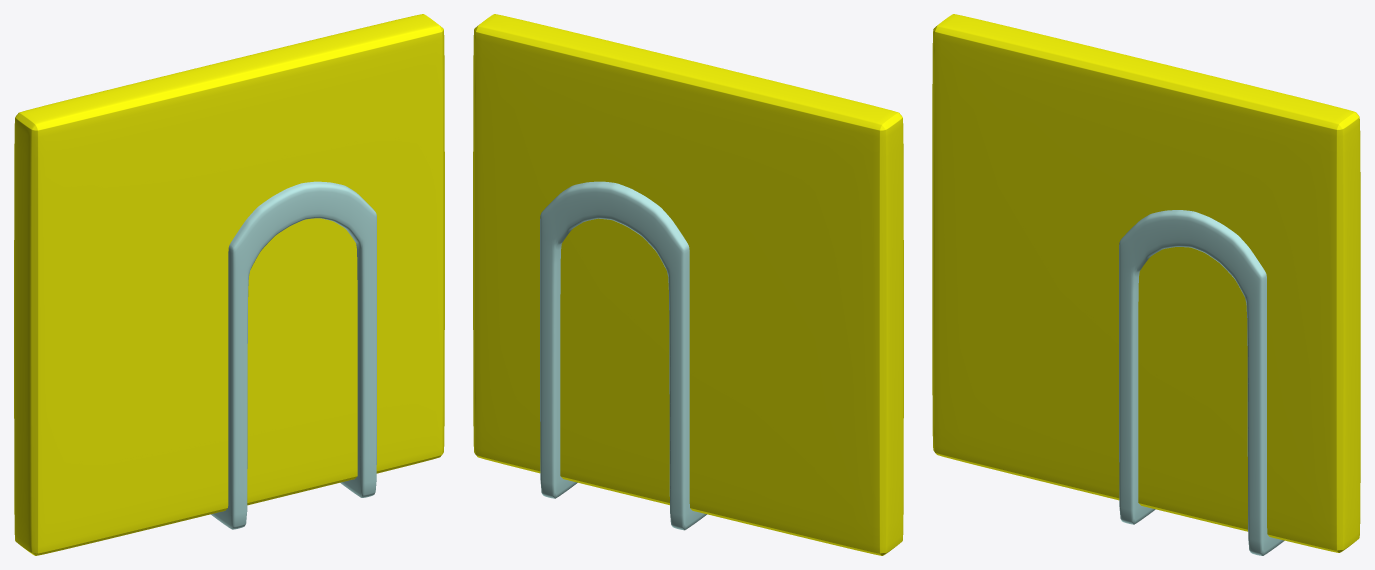
3 renders of one model, left to right at view 1: azimuth 30°, elevation 25°; view 2: azimuth 150°, elevation 25°; view 3: azimuth 330°, elevation 25°, orthographic.
Parts seen in each view (by area): view 1: polySurface1327; view 2: polySurface1327; view 3: polySurface1327.
Boxes of the visible parts, <box> form: polySurface1327: <box>14,14,444,555</box>; polySurface1327: <box>473,14,903,555</box>; polySurface1327: <box>932,14,1360,555</box>.
Bounding box in the file's own units: 0.9995 × 1.04 × 0.1413.
